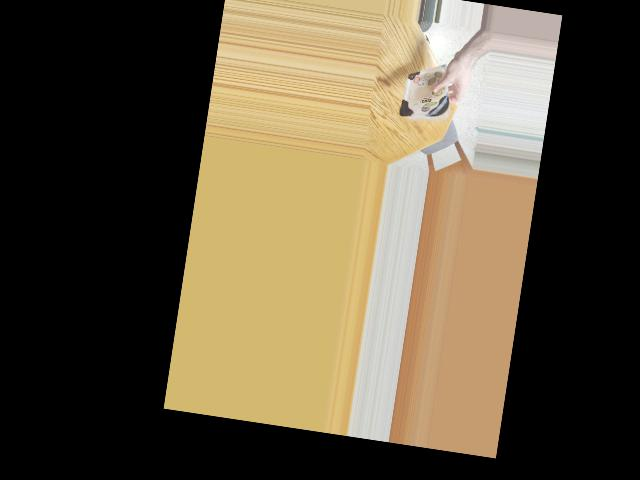cheese: (401, 70, 456, 128)
